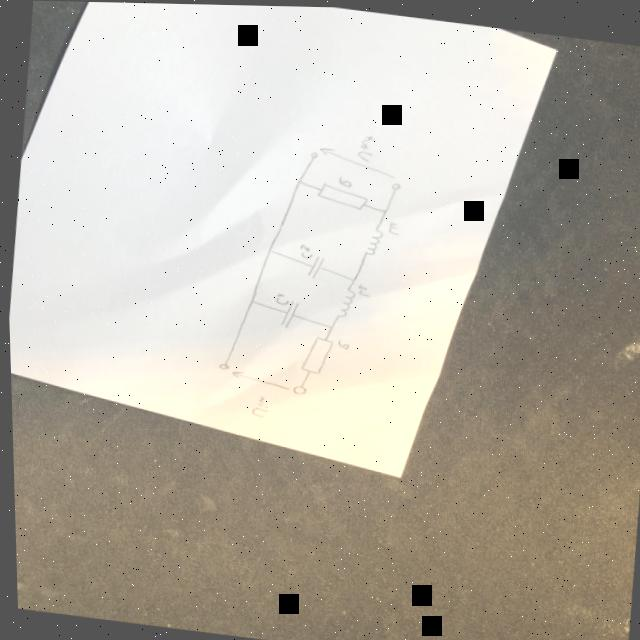capacitor: (276, 298, 298, 328), (302, 253, 323, 280)
inductor: (331, 285, 355, 317), (359, 226, 383, 256)
junction: (324, 323, 334, 330), (293, 176, 303, 183), (245, 297, 254, 304), (347, 274, 356, 281), (262, 245, 271, 252), (379, 206, 388, 213)
resistor: (315, 180, 368, 209), (295, 333, 332, 374)
terminal: (287, 381, 305, 395), (214, 356, 231, 370), (305, 148, 319, 160), (387, 180, 400, 192)
text: (353, 132, 376, 161), (248, 391, 268, 417), (296, 242, 312, 257), (272, 290, 287, 304), (353, 283, 368, 297), (385, 219, 399, 234), (335, 174, 351, 187), (334, 337, 347, 348)
